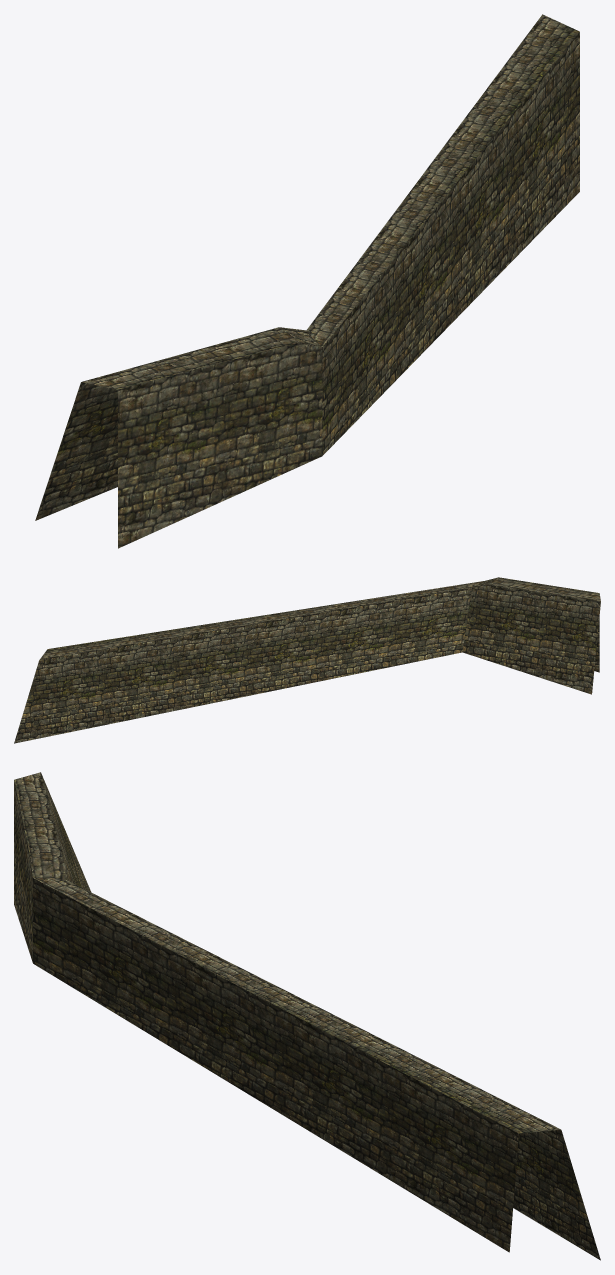
The picture shows the model from 3 angles, top to bottom: view 1: azimuth 30°, elevation 25°; view 2: azimuth 150°, elevation 25°; view 3: azimuth 270°, elevation 25°; orthographic projection. The views are drawn at different scales.
Parts seen in each view (by area): view 1: TN2_W14; view 2: TN2_W14; view 3: TN2_W14.
Boxes of the visible parts, left/top/right/bottom form: TN2_W14: left=35, top=14, right=579, bottom=548; TN2_W14: left=14, top=577, right=600, bottom=743; TN2_W14: left=14, top=772, right=600, bottom=1260.
Bounding box in the file's own units: 35.93 × 9.18 × 27.94.
Materials: 1 (1 with a texture image).
